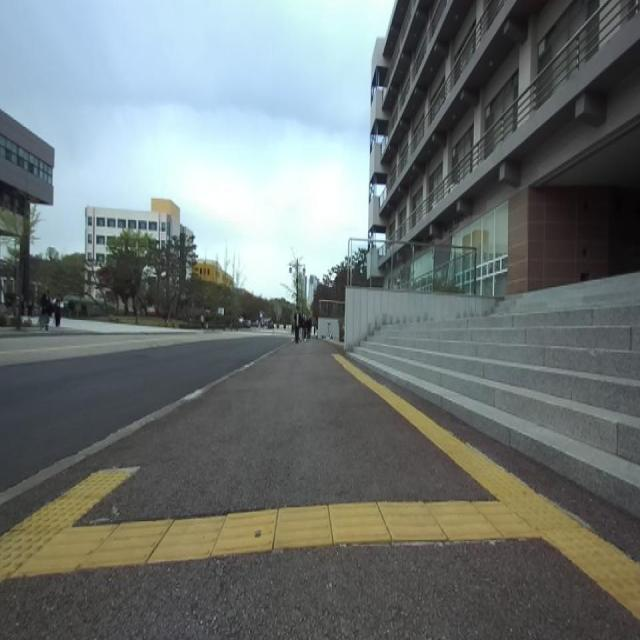sidewalk: (0, 339, 640, 639), (335, 356, 640, 619), (370, 371, 640, 562), (386, 381, 640, 563), (0, 348, 280, 504), (10, 501, 542, 577), (0, 473, 129, 582), (11, 527, 116, 576), (80, 520, 172, 568)
